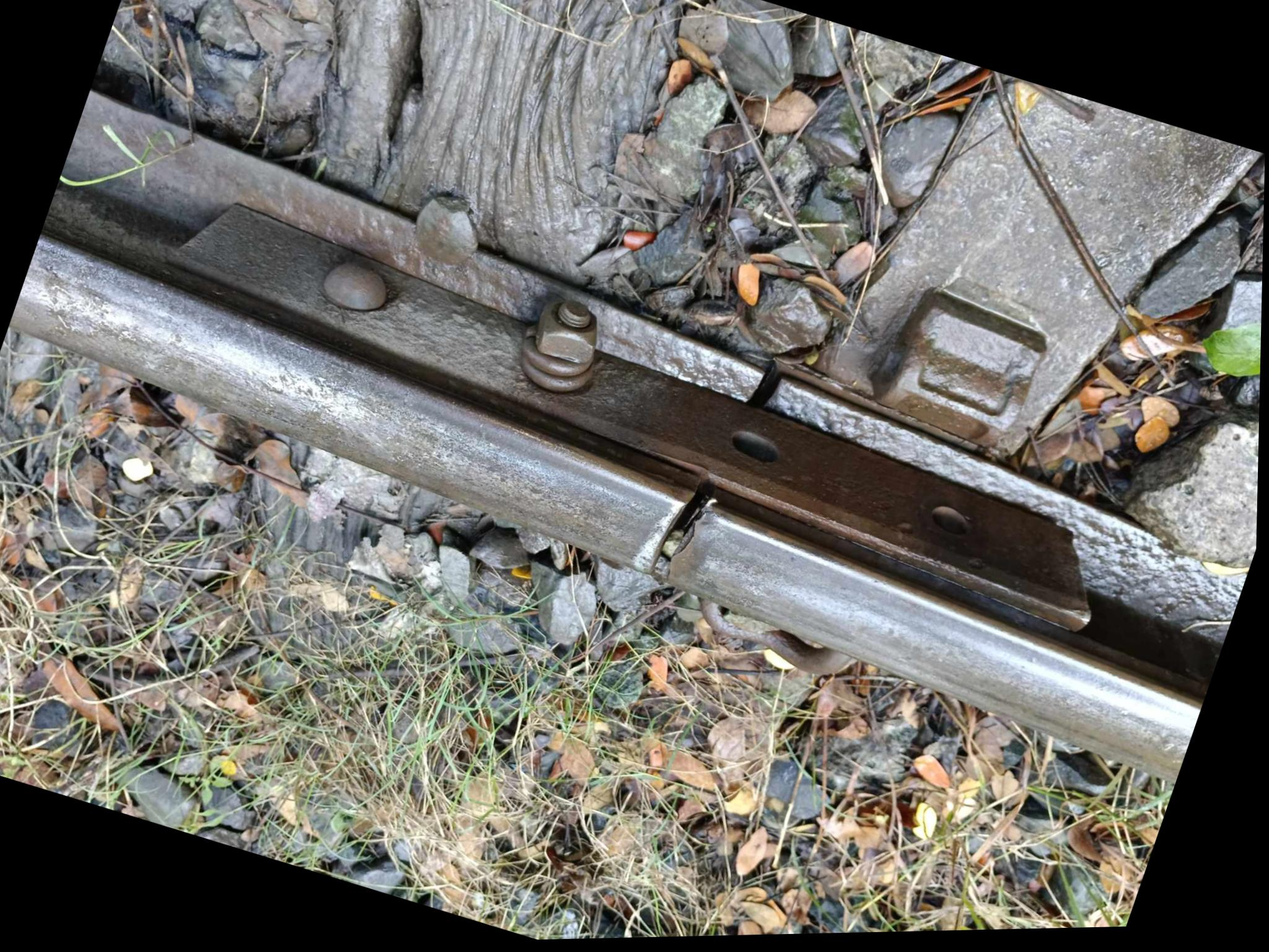person: (546, 415, 789, 651)
